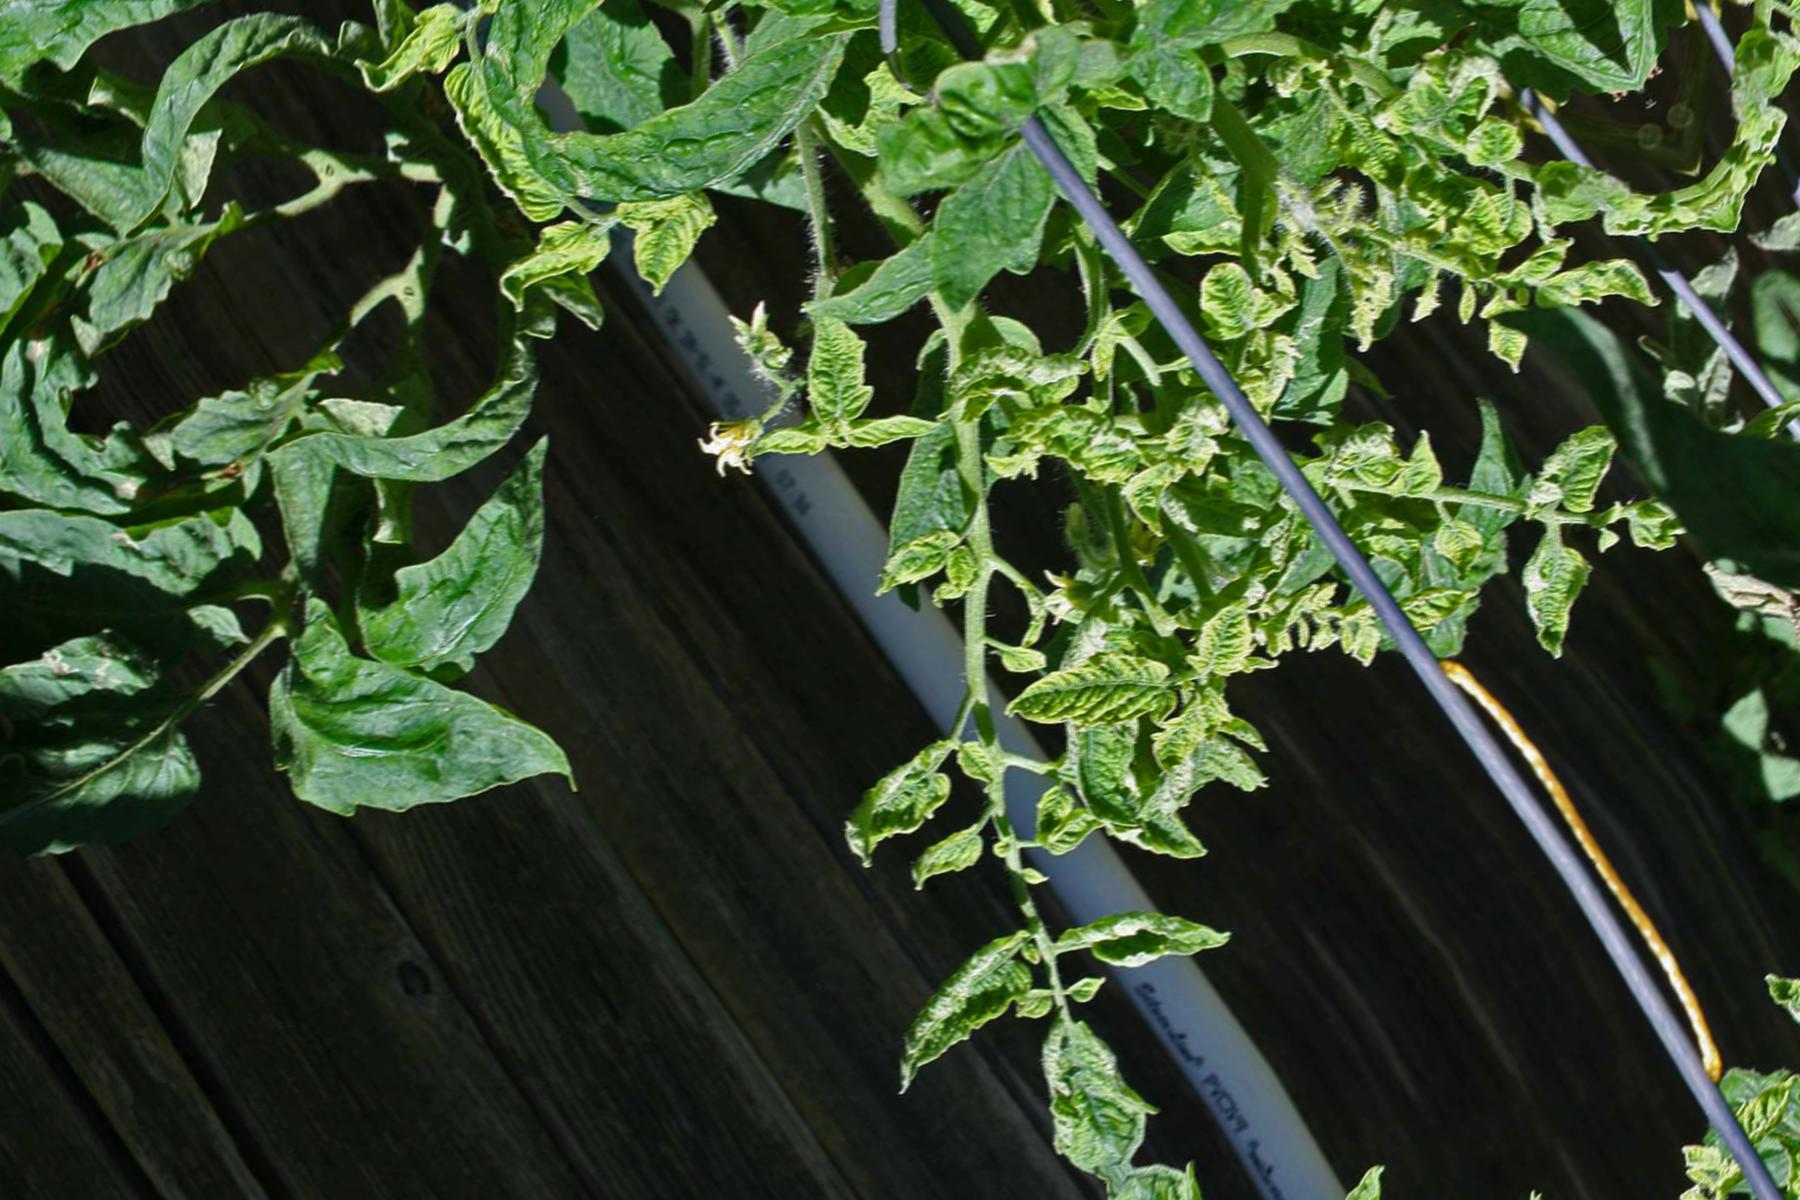Tomato leaf yellow virus: (868, 88, 1142, 337), (828, 899, 1082, 1118), (1000, 346, 1225, 575), (1070, 0, 1438, 139), (785, 706, 1004, 897), (999, 596, 1205, 783), (1002, 996, 1184, 1192), (746, 288, 928, 470), (1516, 216, 1681, 382), (1357, 32, 1516, 175), (1481, 521, 1629, 675), (840, 508, 994, 644), (1156, 573, 1296, 710), (1121, 670, 1262, 800), (1173, 232, 1300, 362), (1425, 170, 1554, 291), (1519, 406, 1645, 526), (883, 806, 1010, 919), (1438, 96, 1536, 189)
